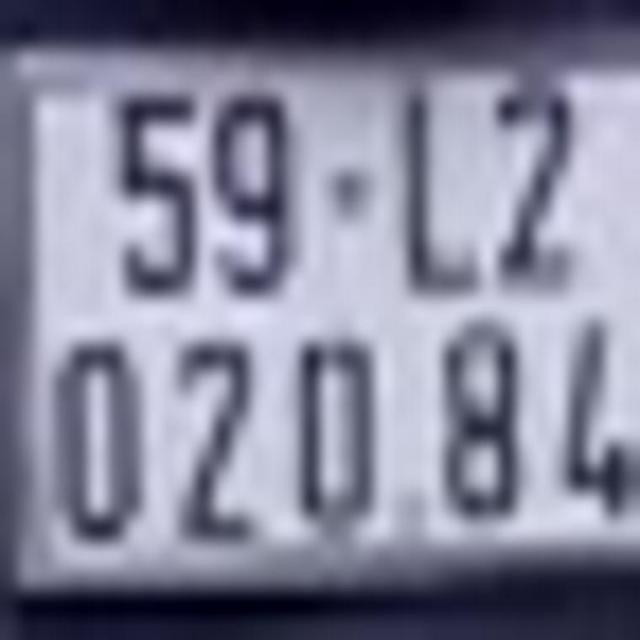0: (291, 318, 385, 540), (54, 335, 144, 544)
2: (490, 78, 577, 294), (176, 324, 256, 556)
4: (554, 312, 633, 535)
5: (121, 86, 202, 302)
8: (432, 320, 524, 525)
9: (210, 84, 290, 295)
L: (396, 84, 486, 298)
